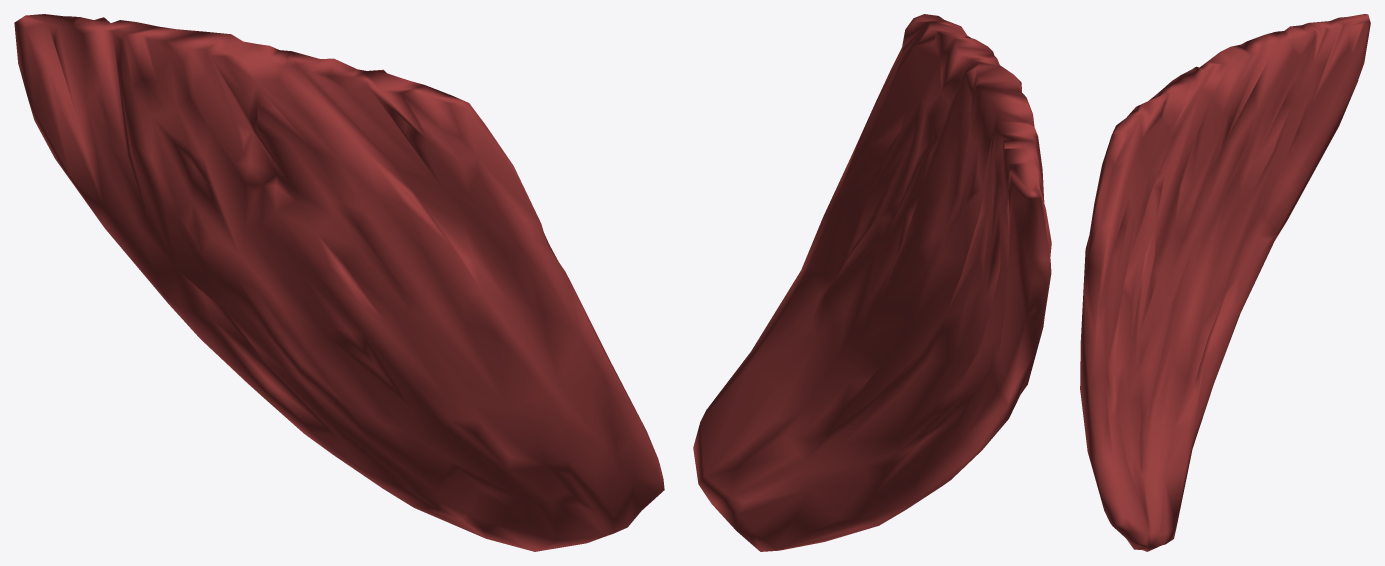
The model's file is straight-part-of-cricothyroid-muscle-r.glb.
3 views of the same model, side by side, from view 1: azimuth 30°, elevation 25°; view 2: azimuth 150°, elevation 25°; view 3: azimuth 270°, elevation 25° (orthographic). The views are drawn at different scales.
Parts seen in each view (by area): view 1: Straight part of cricothyroid muscle.r; view 2: Straight part of cricothyroid muscle.r; view 3: Straight part of cricothyroid muscle.r.
Boxes of the visible parts, bbox=[...] form: Straight part of cricothyroid muscle.r: bbox=[14, 14, 664, 551]; Straight part of cricothyroid muscle.r: bbox=[693, 14, 1051, 551]; Straight part of cricothyroid muscle.r: bbox=[1080, 14, 1370, 551].
Size of the model in its own units: 0.00973 by 0.0103 by 0.00685.
